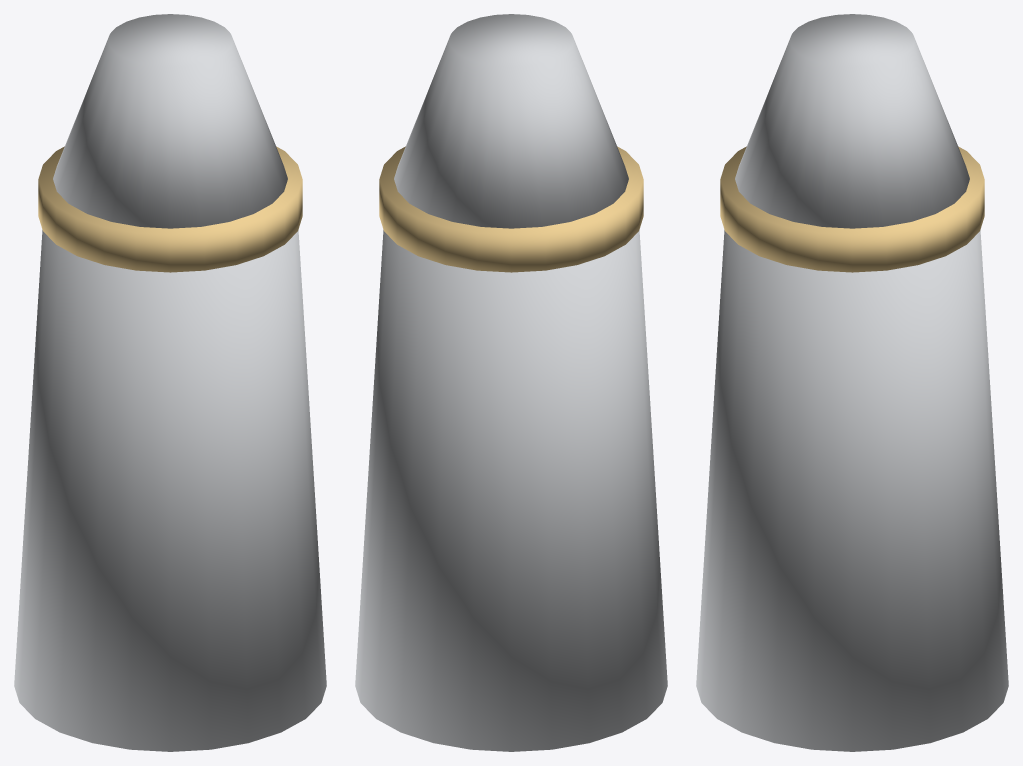
The model's file is bartender_shaker.glb.
3 renders of one model, left to right at view 1: azimuth 30°, elevation 25°; view 2: azimuth 150°, elevation 25°; view 3: azimuth 270°, elevation 25°, orthographic.
Parts seen in each view (by area): view 1: Tin, Cap, Band; view 2: Tin, Cap, Band; view 3: Tin, Cap, Band.
Boxes of the visible parts, x1,y1,x2,y2 form: Tin: (14, 230, 326, 751); Cap: (53, 14, 287, 228); Band: (38, 146, 302, 272); Tin: (355, 230, 667, 751); Cap: (394, 14, 628, 228); Band: (379, 146, 643, 272); Tin: (696, 230, 1008, 751); Cap: (735, 14, 969, 228); Band: (720, 146, 984, 272).
Size of the model in its own units: 0.09 by 0.205 by 0.09.
